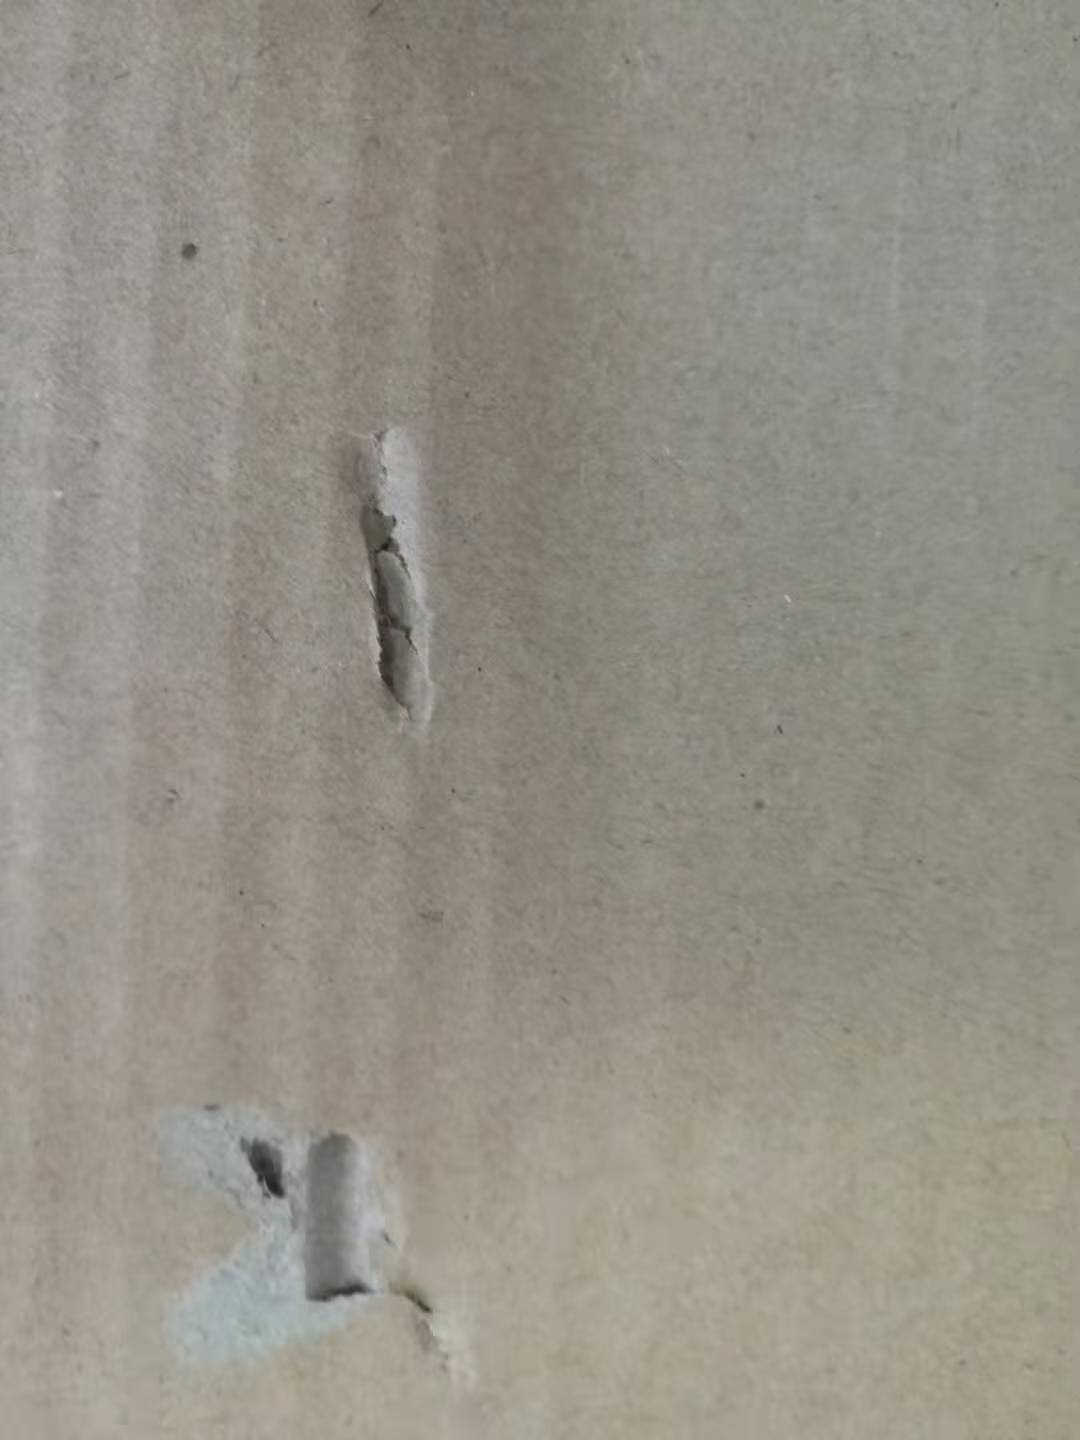defect: (120, 1079, 486, 1405), (288, 388, 503, 768)
